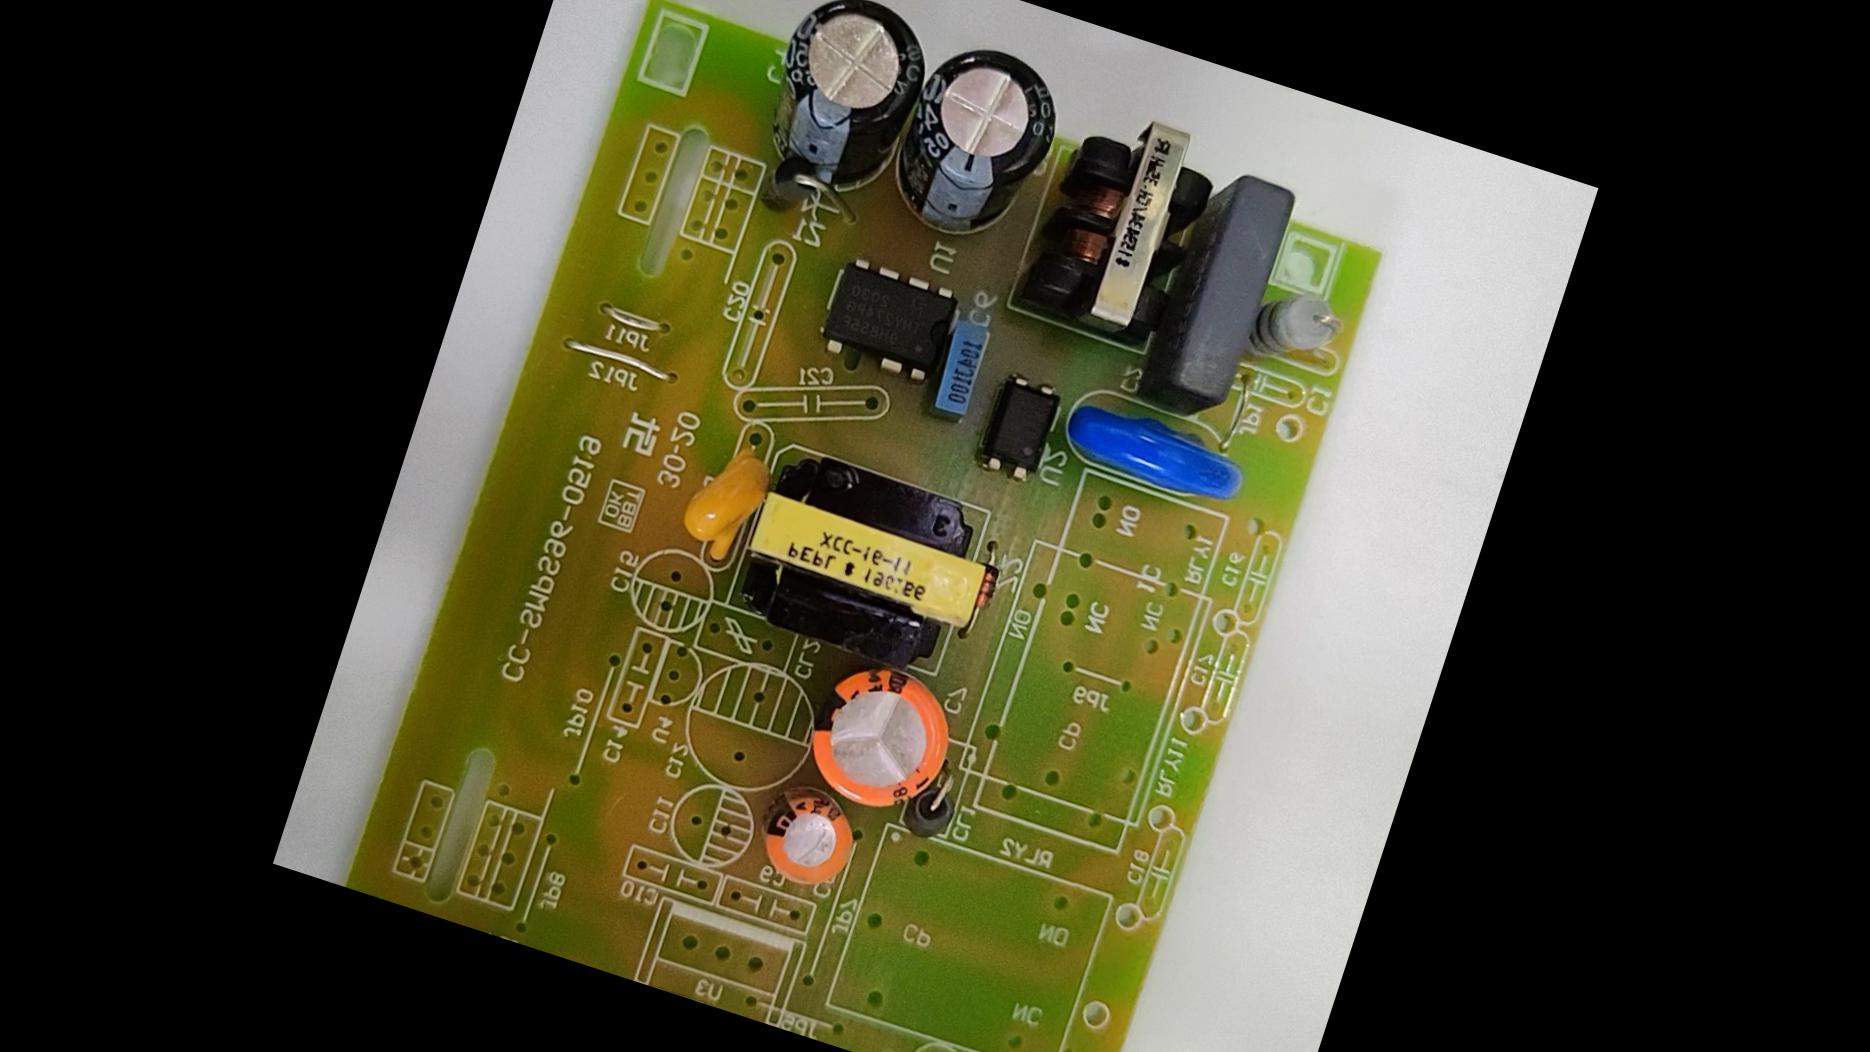Cap1: (790, 644, 975, 828)
Cap2: (746, 776, 876, 900)
Cap3: (872, 23, 1080, 268)
Cap4: (733, 0, 941, 213)
MOSFET: (805, 247, 971, 397)
Mov: (1045, 380, 1265, 518)
Resistor: (1247, 275, 1361, 375)
Transformer: (719, 430, 1013, 690), (1018, 90, 1230, 348)
